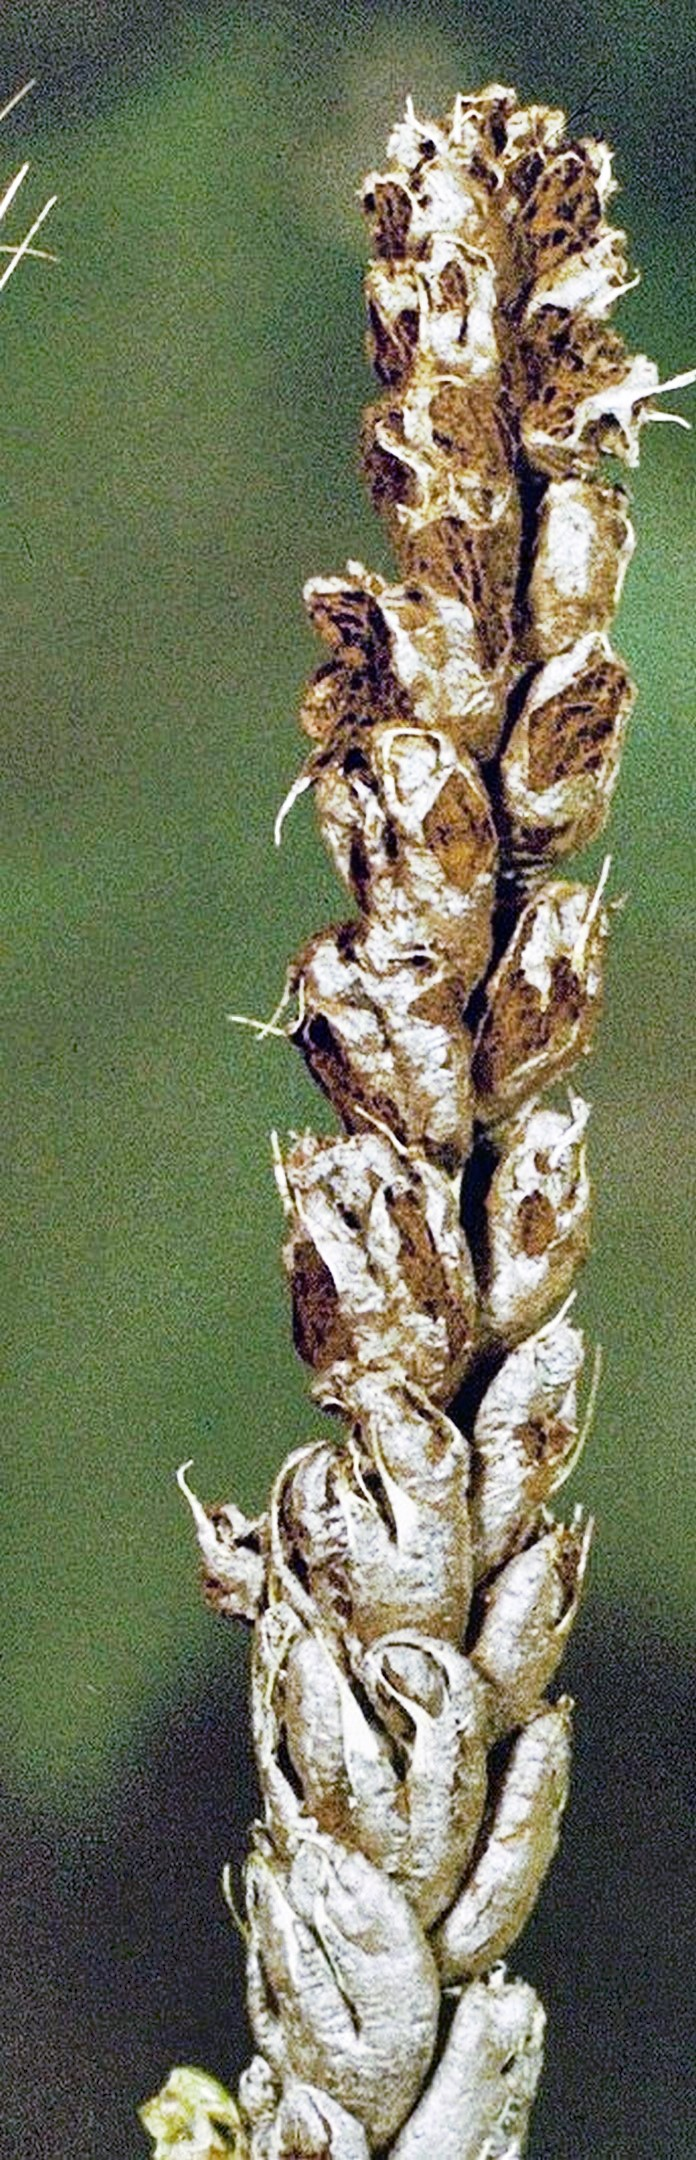Wheat Loose Smut: (207, 96, 696, 2160)
